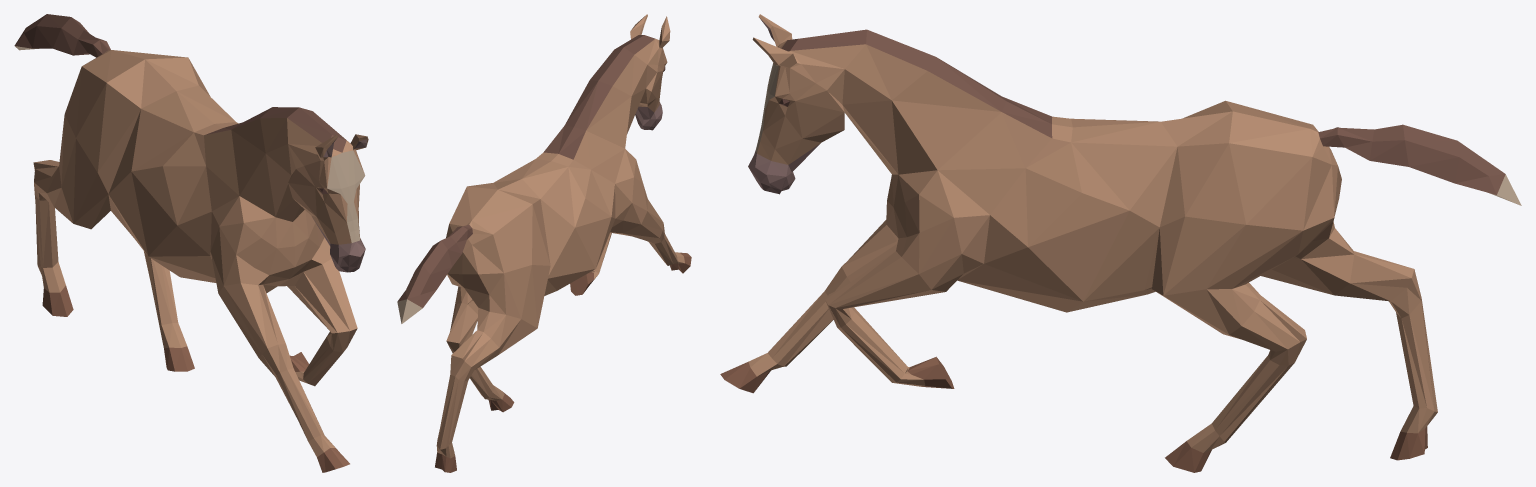
The model's file is Horse.glb.
The picture shows the model from 3 angles, left to right: view 1: azimuth 30°, elevation 25°; view 2: azimuth 150°, elevation 25°; view 3: azimuth 270°, elevation 25°; orthographic projection. The views are drawn at different scales.
Parts seen in each view (by area): view 1: mesh_0; view 2: mesh_0; view 3: mesh_0.
Part boxes in pixels (left/top/right/bottom): mesh_0: left=14, top=14, right=368, bottom=472; mesh_0: left=397, top=14, right=691, bottom=472; mesh_0: left=720, top=14, right=1521, bottom=472.
Size of the model in its own units: 60.74 by 177 by 290.
